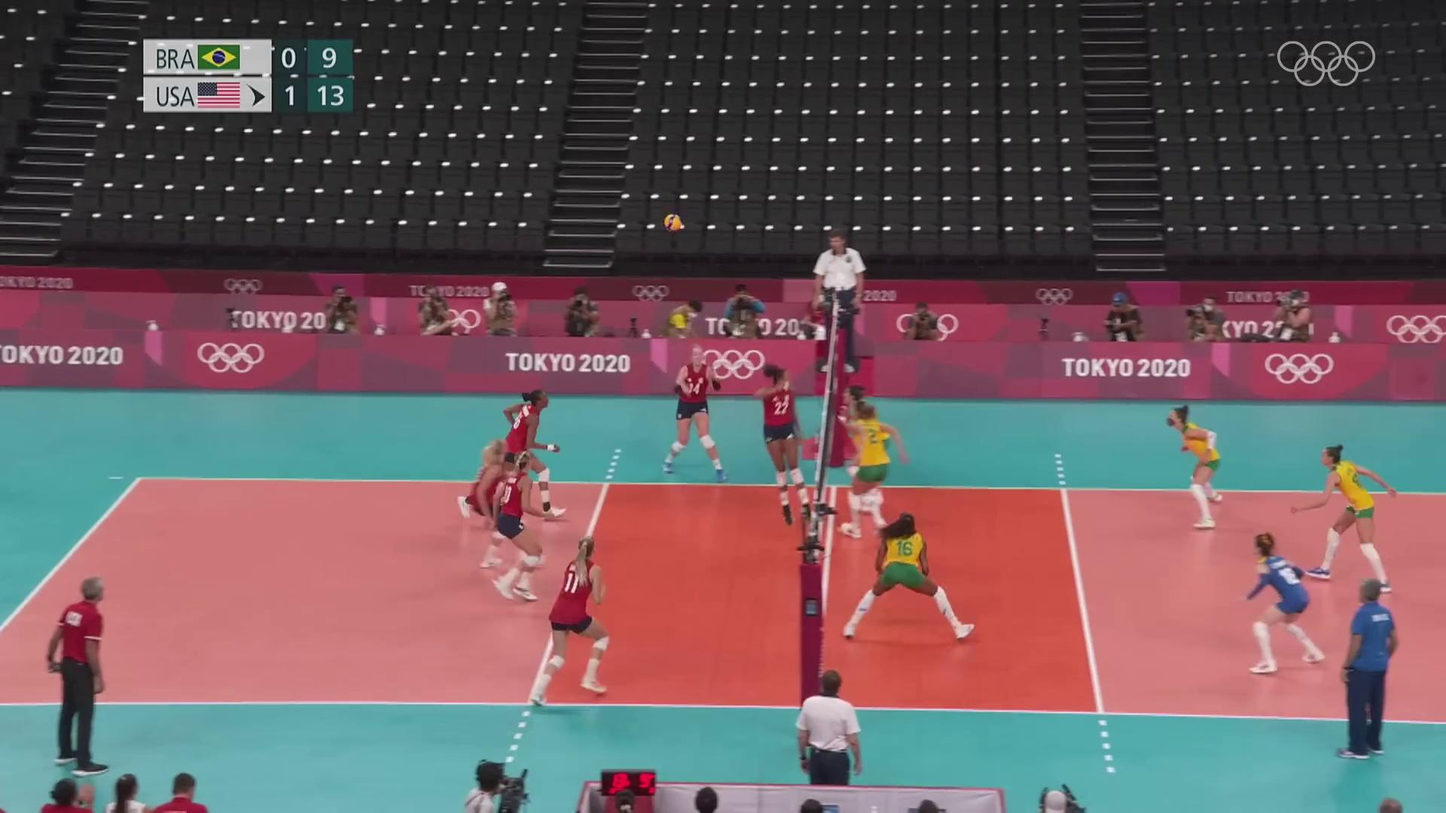player: (841, 513, 972, 644), (1292, 447, 1397, 592), (458, 389, 569, 521), (532, 537, 610, 706), (1242, 535, 1326, 671), (755, 363, 814, 524), (660, 346, 728, 481), (475, 440, 545, 569), (844, 403, 909, 534), (1163, 404, 1224, 529), (496, 450, 543, 600), (837, 386, 886, 510)
refree: (796, 671, 861, 798), (815, 230, 865, 371)
